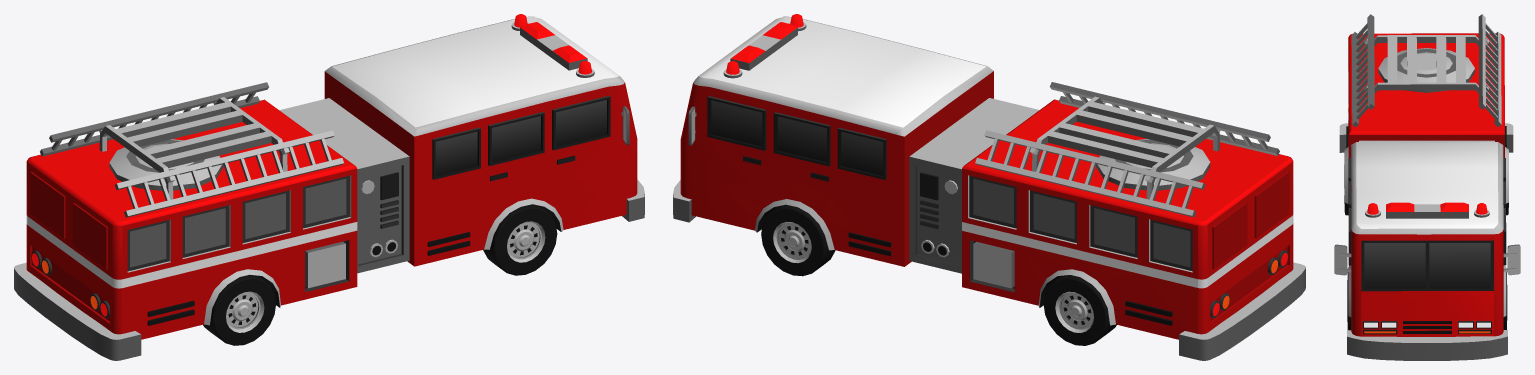
Rendered from Emergency_001.glb.
3 views of the same model, side by side, from view 1: azimuth 30°, elevation 25°; view 2: azimuth 150°, elevation 25°; view 3: azimuth 270°, elevation 25° (orthographic). The views are drawn at different scales.
Visible parts, largest first — view 1: Emergency_001, wheel_1_Emergency_001_Wheel_1R, wheel_3_Emergency_001_Wheel_2R; view 2: Emergency_001, wheel_0_Emergency_001_Wheel_1L, wheel_2_Emergency_001_Wheel_2L; view 3: Emergency_001.
Part boxes in pixels (x1,y1,x2,y2): Emergency_001: (14,14,644,360); wheel_1_Emergency_001_Wheel_1R: (483,204,557,275); wheel_3_Emergency_001_Wheel_2R: (203,274,275,345); Emergency_001: (673,14,1305,360); wheel_0_Emergency_001_Wheel_1L: (761,204,835,276); wheel_2_Emergency_001_Wheel_2L: (1043,275,1116,345); Emergency_001: (1334,14,1520,360).
Bounding box in the file's own units: 8.64 × 2.75 × 2.97.
2 materials, 2 textured.
